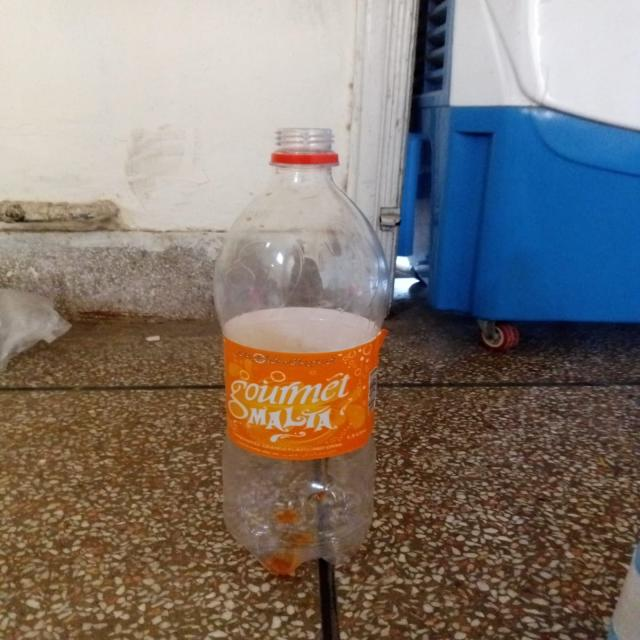bottle: (203, 110, 394, 573)
label: (198, 300, 392, 460)
